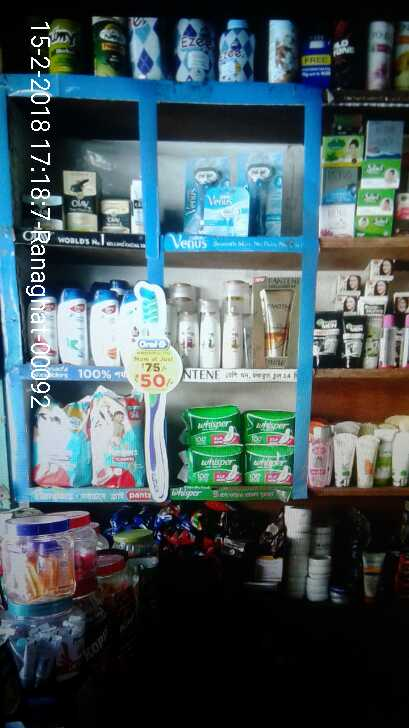venus: (246, 151, 286, 237), (207, 191, 246, 237), (186, 159, 220, 187)
